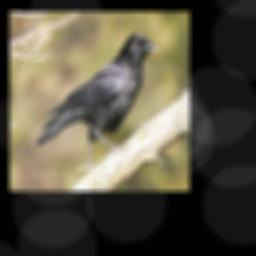Crow: (35, 31, 160, 175)
